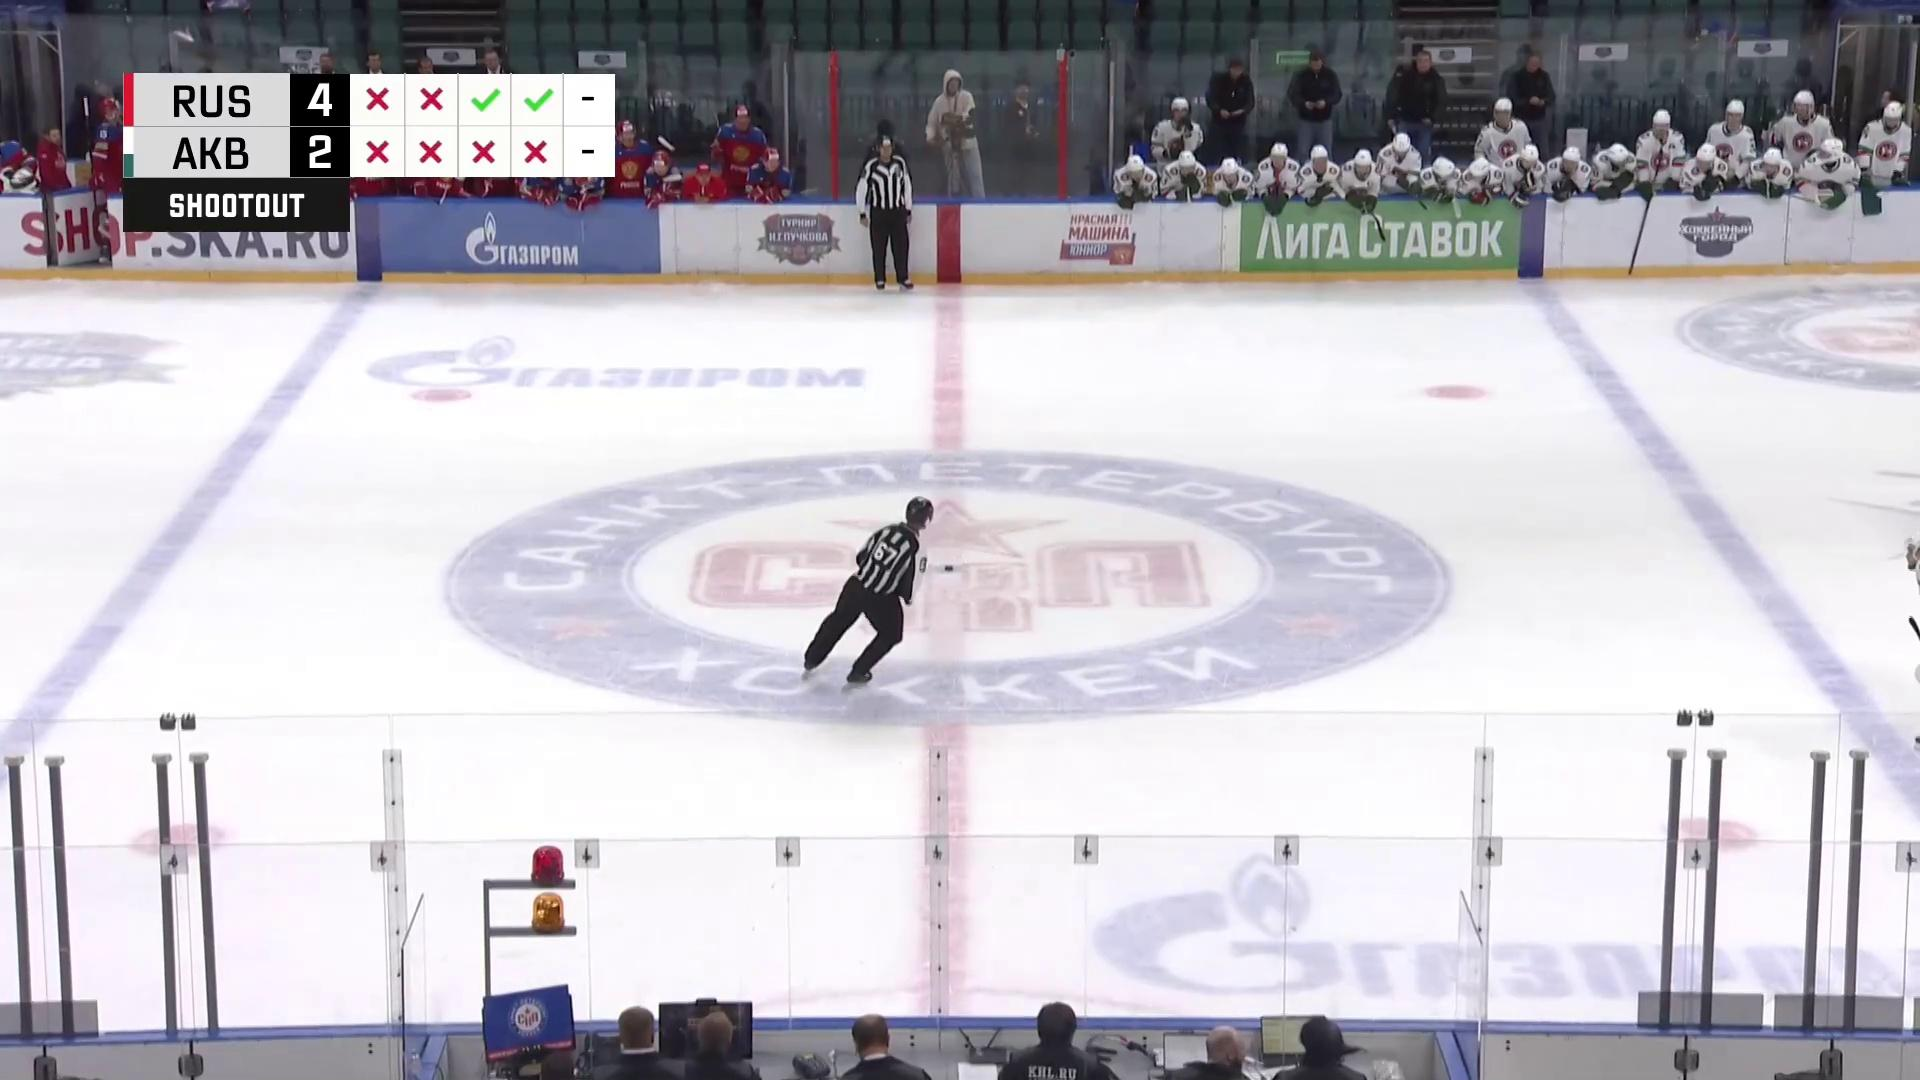ball: (944, 566, 955, 572)
